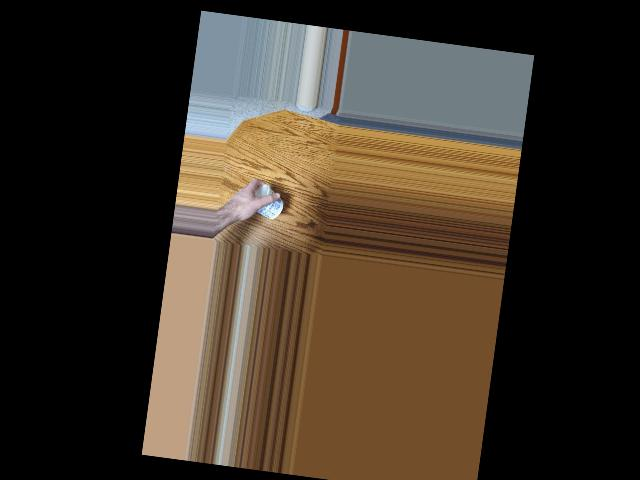cotage: (248, 182, 283, 220)
